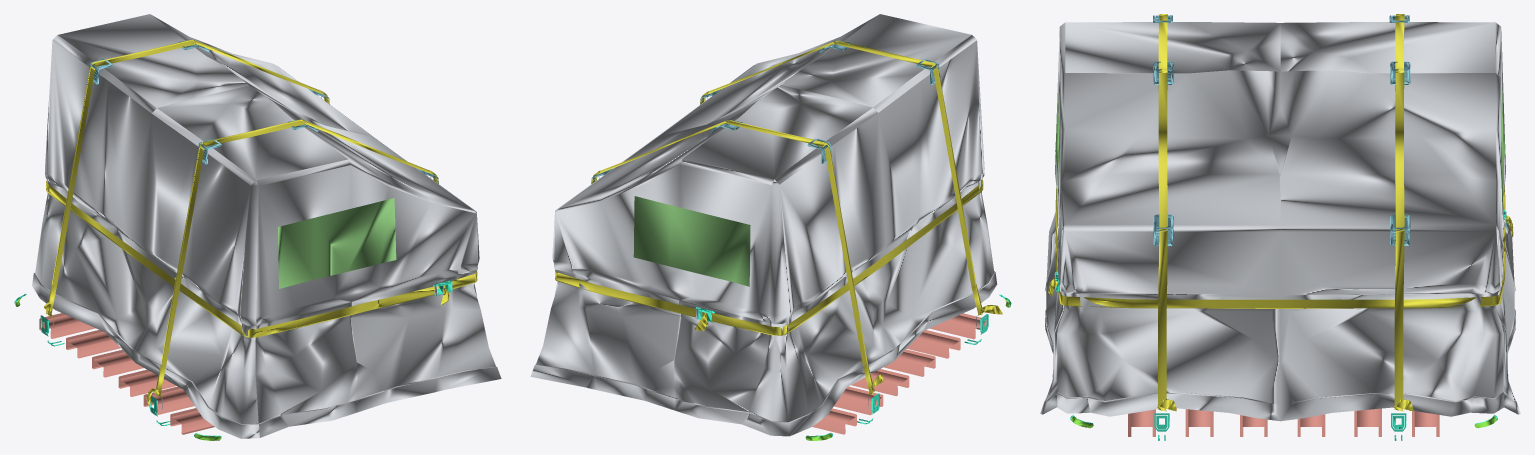
The model's file is prop_crate_dumper_tarp_c_lod1.glb.
3 views of the same model, side by side, from view 1: azimuth 30°, elevation 25°; view 2: azimuth 150°, elevation 25°; view 3: azimuth 270°, elevation 25° (orthographic). The views are drawn at different scales.
Bounding box in the file's own units: 3.25 × 2.57 × 3.81.
